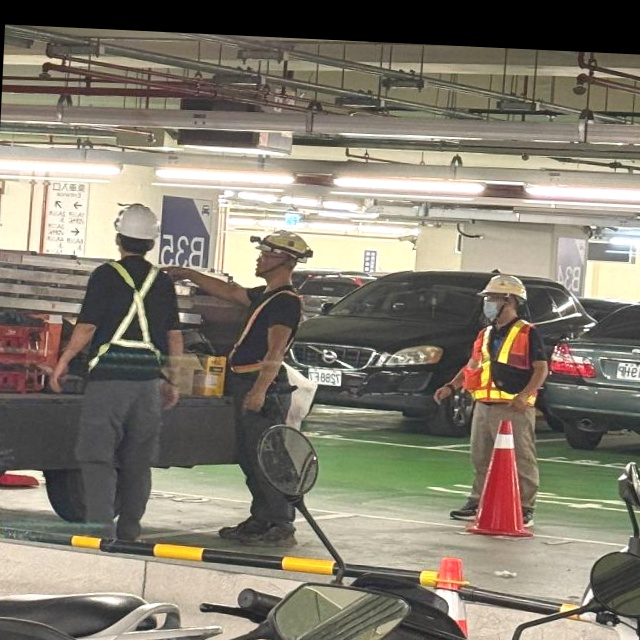Con_Casco: (244, 228, 315, 283), (108, 201, 162, 259), (478, 273, 528, 322)
Con_Chaleco: (82, 261, 173, 378), (222, 285, 304, 385), (461, 323, 548, 409)
